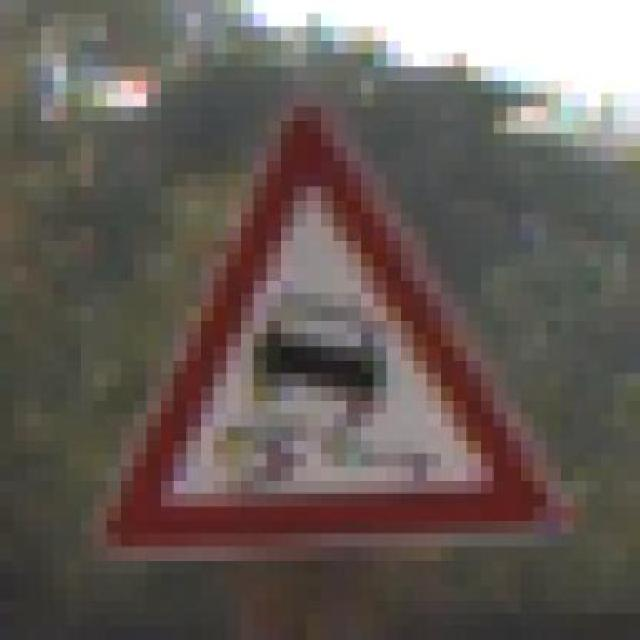Slippery Road Ahead: (67, 93, 587, 573)
